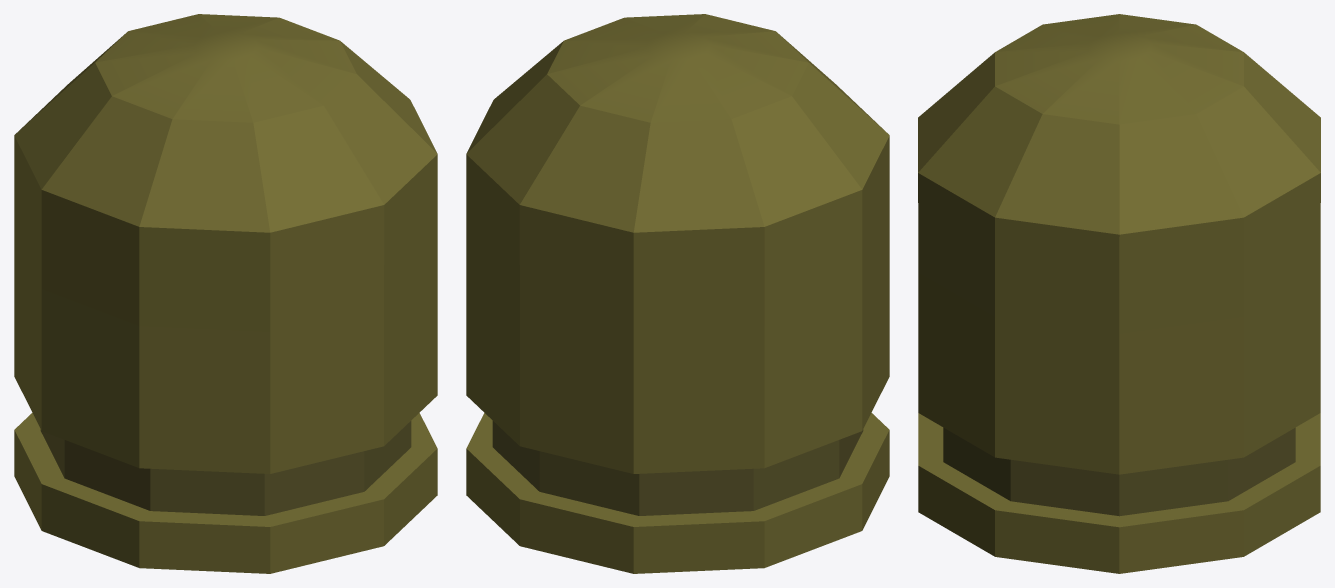
Rendered from Bullet_Small.fbx.
3 renders of one model, left to right at view 1: azimuth 30°, elevation 25°; view 2: azimuth 150°, elevation 25°; view 3: azimuth 270°, elevation 25°, orthographic.
Parts seen in each view (by area): view 1: Small1; view 2: Small1; view 3: Small1.
Boxes of the visible parts, x1,y1,x2,y2 form: Small1: (14,14,437,573); Small1: (466,14,889,573); Small1: (918,14,1320,573).
Size of the model in its own units: 42.65 by 48.56 by 40.56.
